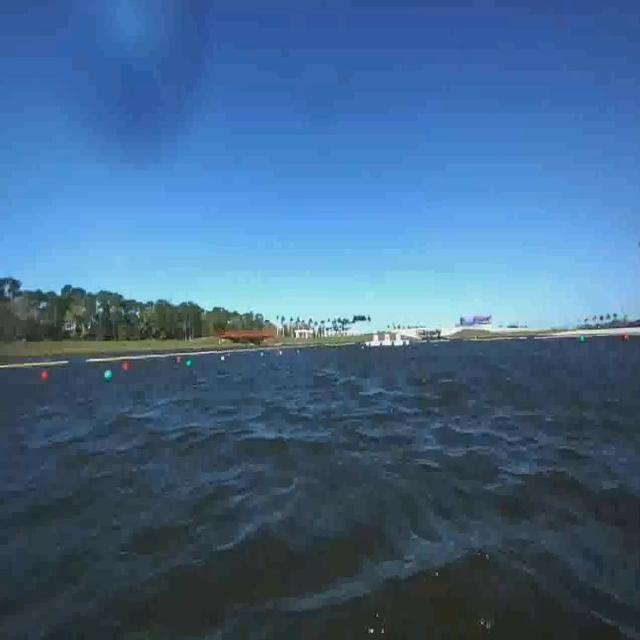green-buoy: (104, 368, 114, 381), (186, 358, 192, 368), (579, 336, 585, 346)
red-buoy: (41, 370, 49, 378), (122, 362, 129, 370)
